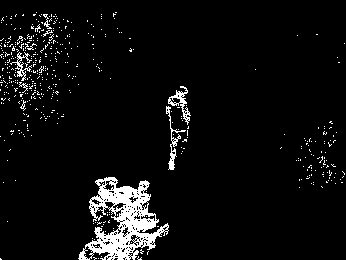person: (164, 82, 190, 177)
